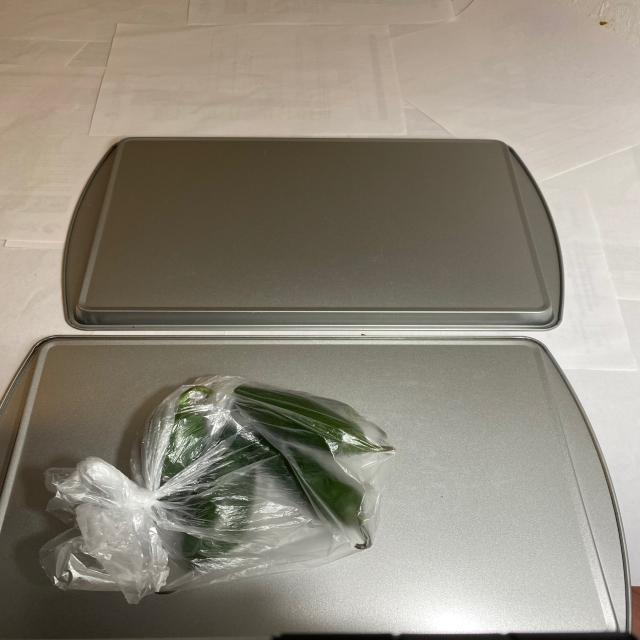chilli: (128, 377, 393, 598)
